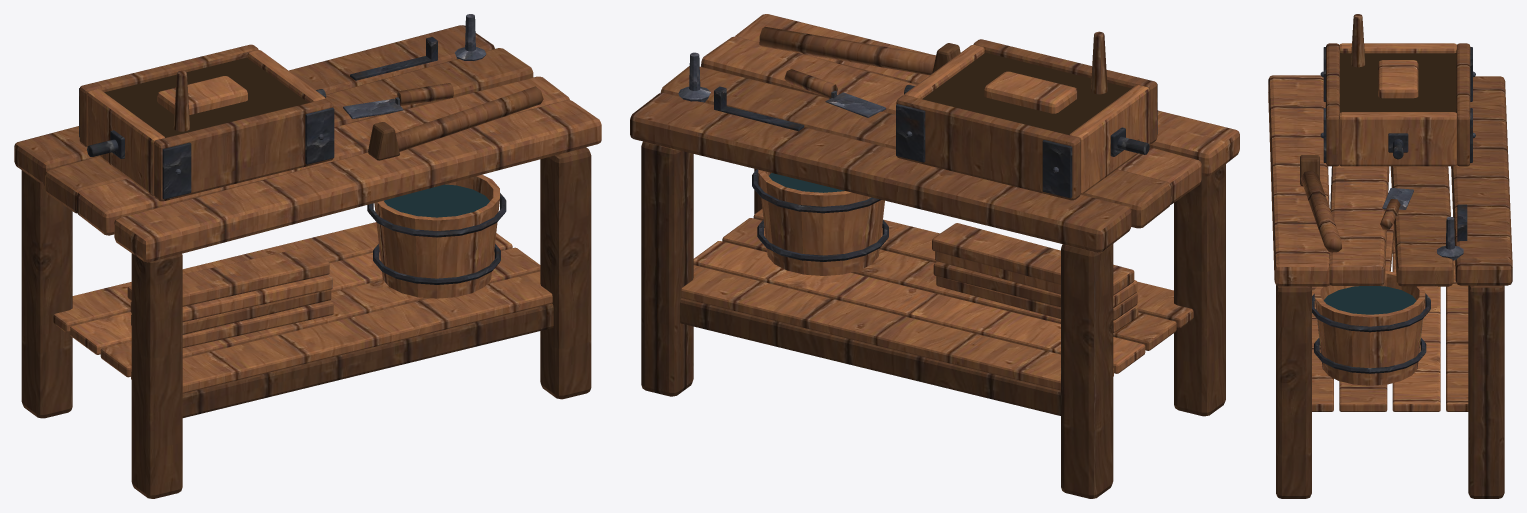
File: cf_moulders_bench.glb
The picture shows the model from 3 angles, left to right: view 1: azimuth 30°, elevation 25°; view 2: azimuth 150°, elevation 25°; view 3: azimuth 270°, elevation 25°; orthographic projection. The views are drawn at different scales.
Visible parts, largest first — view 1: model; view 2: model; view 3: model.
Boxes of the visible parts, x1,y1,x2,y2 form: model: (14, 14, 601, 498); model: (630, 14, 1239, 498); model: (1268, 14, 1512, 498).
Size of the model in its own units: 1.17 by 0.908 by 0.6098.
8 materials, 6 textured.
